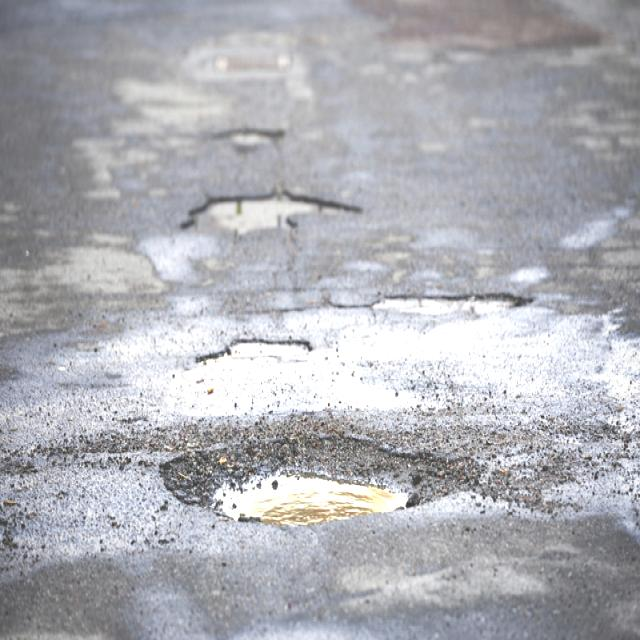Pothole: (150, 416, 484, 544)
